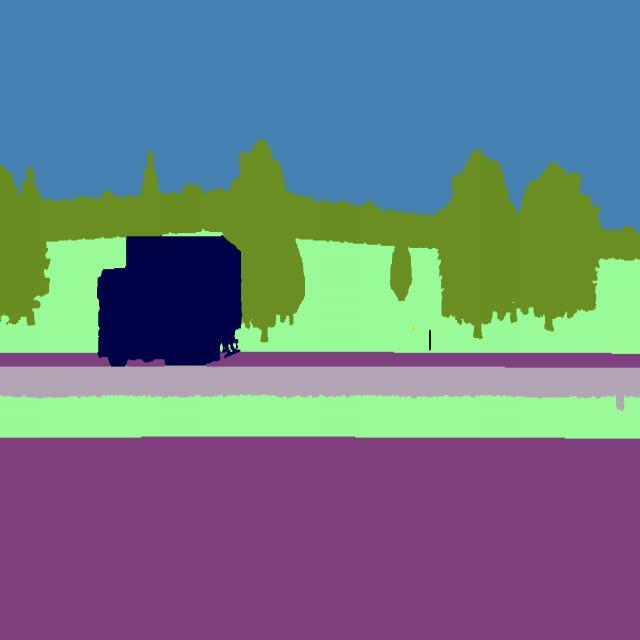safe: (94, 232, 244, 366)
